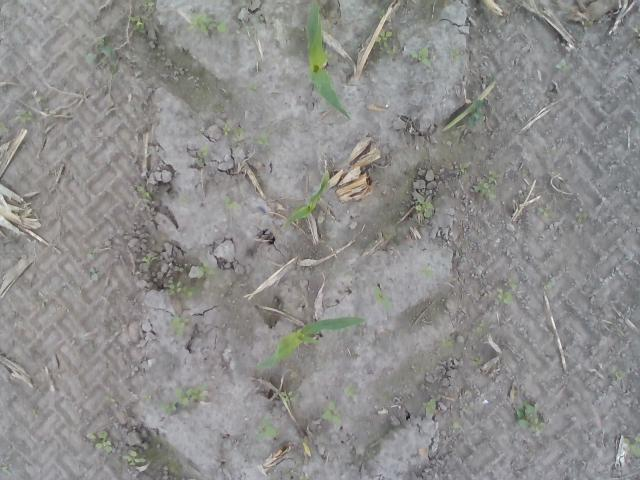Maize: (255, 314, 368, 368), (307, 0, 352, 122), (284, 169, 328, 226)
Weeds: (159, 385, 209, 416), (85, 34, 118, 72), (512, 400, 544, 432), (186, 12, 230, 34), (476, 168, 497, 202), (255, 416, 277, 448), (222, 119, 248, 145), (494, 278, 519, 305), (85, 432, 113, 456), (463, 97, 483, 128), (320, 399, 343, 424), (168, 280, 197, 298), (374, 29, 394, 55), (406, 46, 432, 66), (373, 286, 392, 311), (170, 317, 190, 338), (624, 432, 640, 458), (121, 450, 145, 466), (126, 14, 146, 33), (414, 202, 434, 220), (197, 262, 216, 279), (251, 134, 273, 146), (422, 398, 436, 416), (88, 266, 103, 282), (343, 382, 357, 399), (142, 255, 160, 268), (224, 196, 241, 209), (575, 207, 588, 224), (609, 368, 625, 381), (449, 48, 465, 61), (438, 338, 456, 349), (16, 110, 32, 122), (137, 186, 153, 198), (280, 390, 296, 402), (476, 320, 488, 336), (414, 268, 432, 278), (556, 61, 572, 72), (460, 402, 474, 414), (0, 462, 12, 476), (538, 206, 550, 218), (580, 19, 592, 31), (198, 144, 208, 158), (248, 78, 256, 94), (178, 194, 189, 205), (456, 160, 466, 172), (142, 0, 155, 9), (0, 122, 9, 134), (144, 393, 154, 401), (470, 356, 480, 364), (452, 421, 460, 430), (32, 408, 40, 417), (240, 0, 248, 8)
